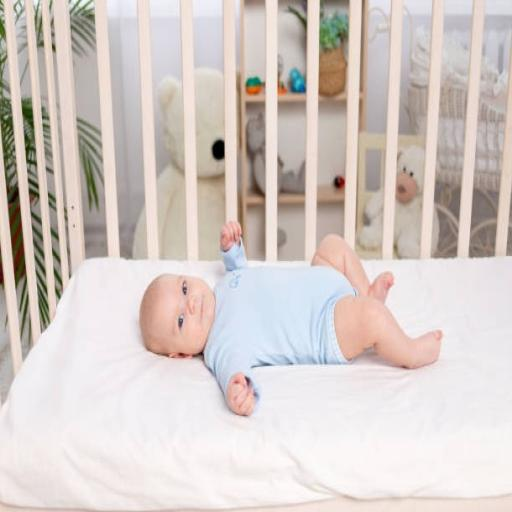baby: (140, 222, 442, 414)
crib: (0, 0, 511, 510)
